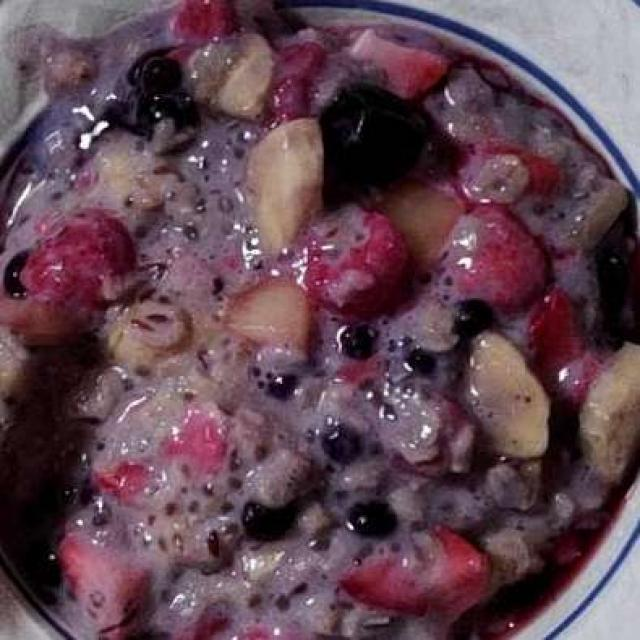banana: (96, 27, 633, 483)
berries: (22, 22, 595, 615)
